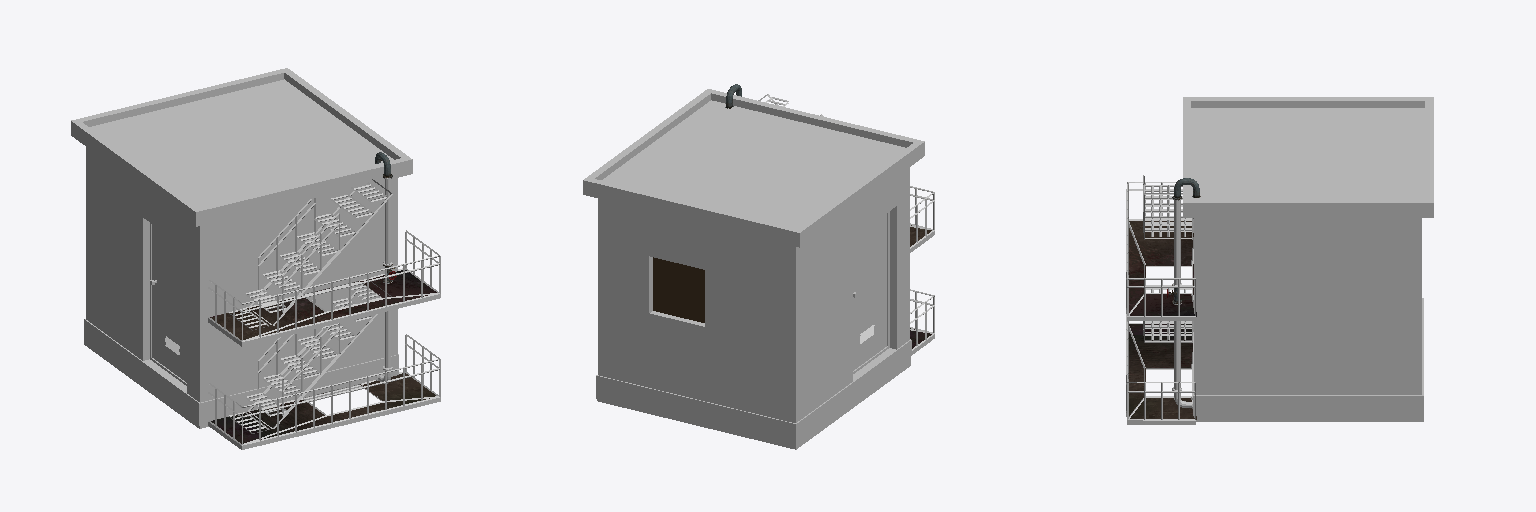
3 views of the same model, side by side, from view 1: azimuth 30°, elevation 25°; view 2: azimuth 150°, elevation 25°; view 3: azimuth 270°, elevation 25° (orthographic).
Visible parts, largest first — view 1: Object_14, Object_18, Object_16, Object_15; view 2: Object_14, Object_15, Object_20, Object_18; view 3: Object_14, Object_16, Object_18, Object_4.
Part boxes in pixels (x1,y1,x2,y2): Object_14: (71, 68, 412, 428); Object_18: (208, 179, 440, 449); Object_16: (210, 270, 436, 443); Object_15: (150, 223, 186, 385); Object_14: (583, 89, 924, 449); Object_15: (853, 211, 889, 373); Object_20: (653, 257, 704, 322); Object_18: (758, 94, 934, 355); Object_14: (1183, 97, 1433, 421); Object_16: (1129, 221, 1196, 419); Object_18: (1126, 175, 1195, 424); Object_4: (1172, 198, 1181, 285).
Size of the model in its own units: 2.2 by 2.26 by 2.69.
Materials: 7 (2 with a texture image).